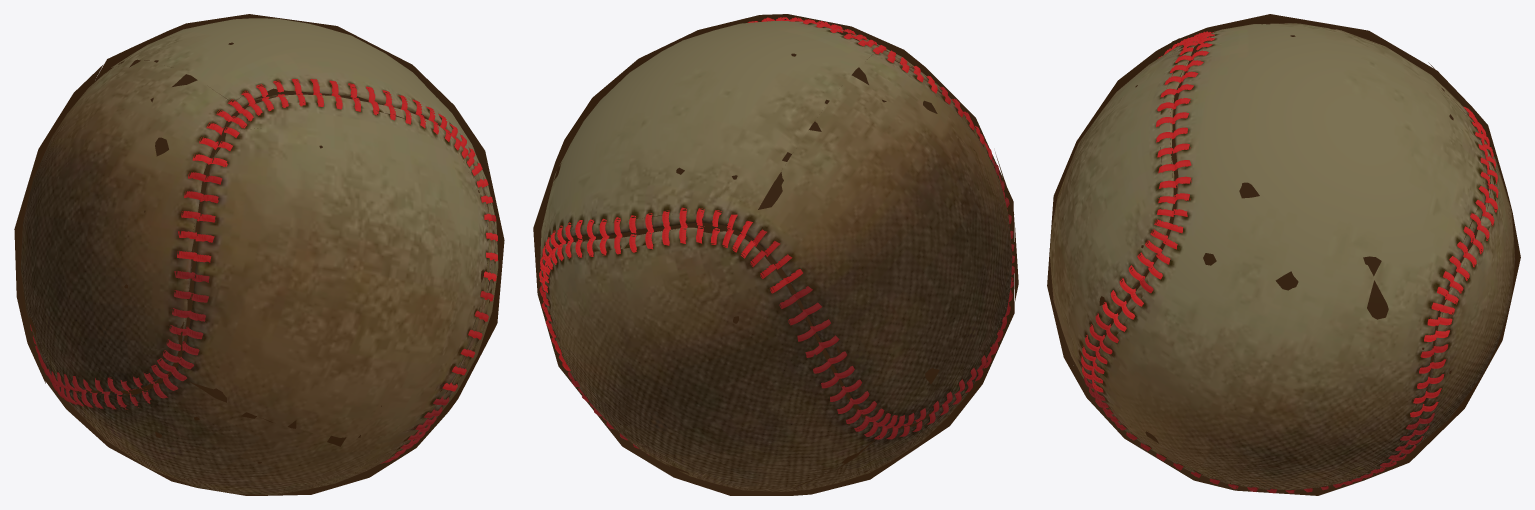
The model's file is baseball.glb.
3 renders of one model, left to right at view 1: azimuth 30°, elevation 25°; view 2: azimuth 150°, elevation 25°; view 3: azimuth 270°, elevation 25°, orthographic. The views are drawn at different scales.
Parts seen in each view (by area): view 1: ball_Mat_ball_0, ball_black_Mat_black_0, seam_Mat_sting_dark_0, seam_Mat_sting_light_0, seam_Mat_sting_mid_0; view 2: ball_Mat_ball_0, ball_black_Mat_black_0, seam_Mat_sting_light_0, seam_Mat_sting_dark_0, seam_Mat_sting_mid_0; view 3: ball_Mat_ball_0, ball_black_Mat_black_0, seam_Mat_sting_light_0, seam_Mat_sting_mid_0, seam_Mat_sting_dark_0.
Part boxes in pixels (bbox=[...]): ball_Mat_ball_0: bbox=[20, 18, 498, 494]; ball_black_Mat_black_0: bbox=[14, 14, 504, 495]; seam_Mat_sting_dark_0: bbox=[30, 271, 449, 463]; seam_Mat_sting_light_0: bbox=[192, 79, 497, 281]; seam_Mat_sting_mid_0: bbox=[177, 172, 496, 391]; ball_Mat_ball_0: bbox=[540, 20, 1012, 491]; ball_black_Mat_black_0: bbox=[533, 14, 1018, 495]; seam_Mat_sting_light_0: bbox=[539, 17, 937, 292]; seam_Mat_sting_dark_0: bbox=[568, 158, 1014, 455]; seam_Mat_sting_mid_0: bbox=[539, 87, 992, 370]; ball_Mat_ball_0: bbox=[1049, 23, 1515, 490]; ball_black_Mat_black_0: bbox=[1047, 14, 1520, 495]; seam_Mat_sting_light_0: bbox=[1102, 31, 1498, 341]; seam_Mat_sting_mid_0: bbox=[1081, 56, 1448, 417]; seam_Mat_sting_dark_0: bbox=[1084, 377, 1434, 493].
Bounding box in the file's own units: 0.0736 × 0.074 × 0.0736.
5 materials, 1 textured.
